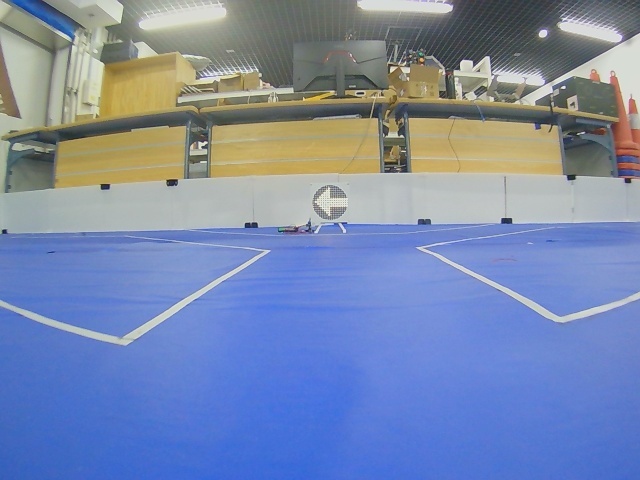left_yellow: (312, 185, 348, 220)
